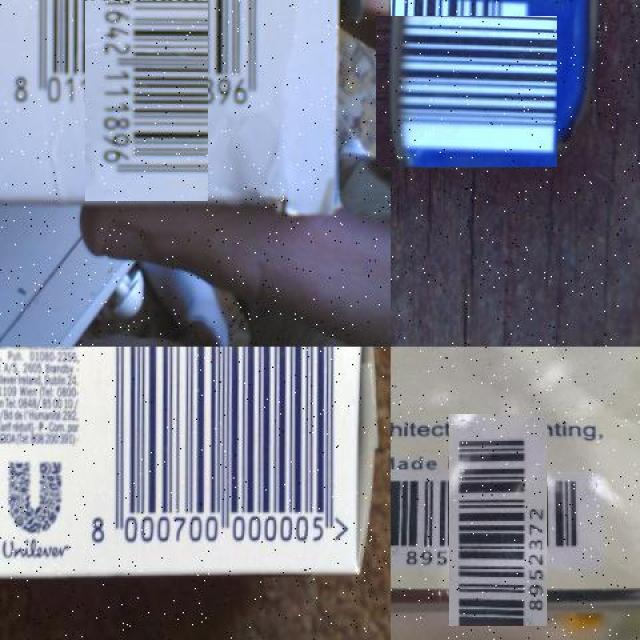Barcode: (84, 347, 356, 561), (47, 0, 247, 163), (383, 8, 550, 174), (420, 442, 575, 598)
